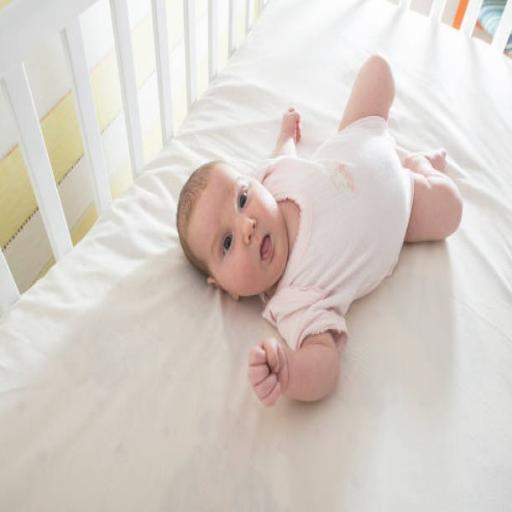baby: (178, 56, 462, 404)
crib: (0, 0, 511, 510)
